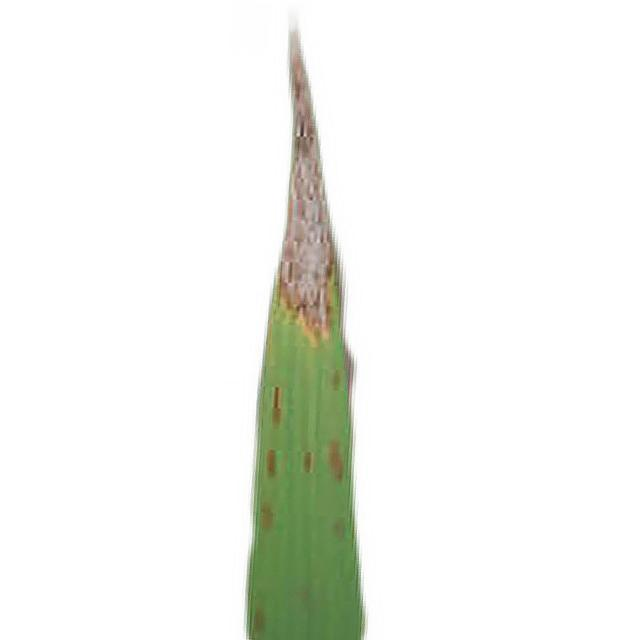Leaf scald: (212, 11, 464, 640)
